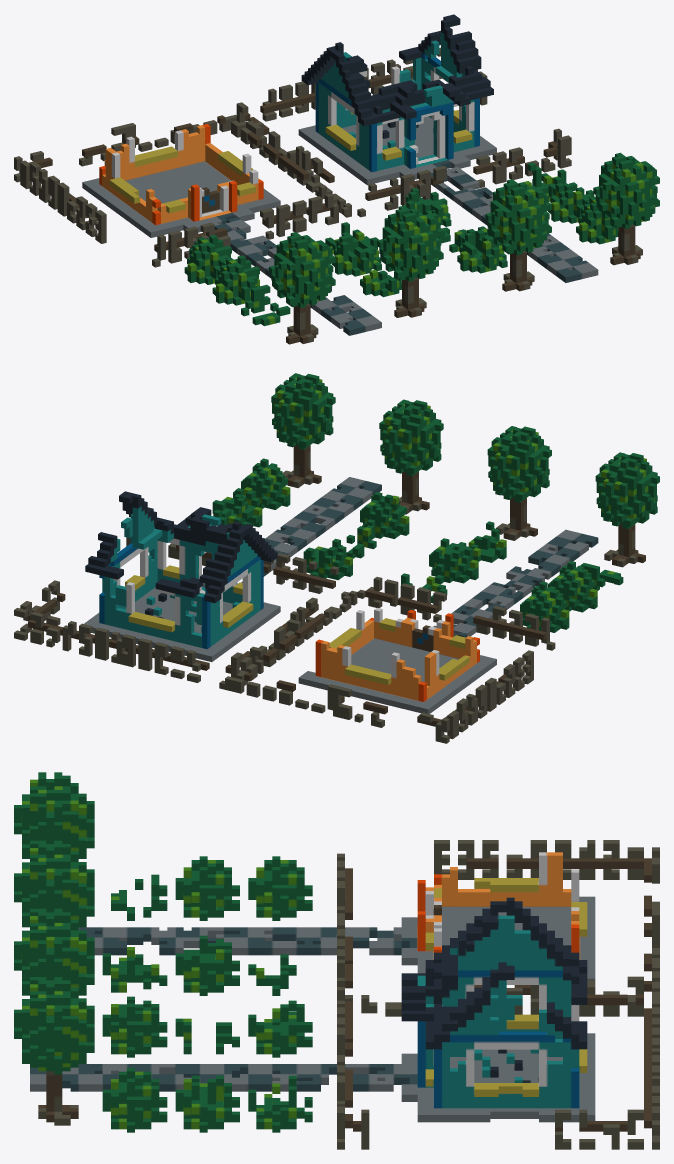
File: building_small_1_destroyed.glb
3 renders of one model, top to bottom at view 1: azimuth 30°, elevation 25°; view 2: azimuth 150°, elevation 25°; view 3: azimuth 270°, elevation 25°, orthographic. The views are drawn at different scales.
Visible parts, largest first — view 1: building_small_1_destroyed; view 2: building_small_1_destroyed; view 3: building_small_1_destroyed.
Part boxes in pixels (x1,y1,x2,y2): building_small_1_destroyed: (14,14,659,344); building_small_1_destroyed: (14,373,659,743); building_small_1_destroyed: (14,772,659,1149).
Size of the model in its own units: 8 by 2 by 8.
Materials: 1 (1 with a texture image).
